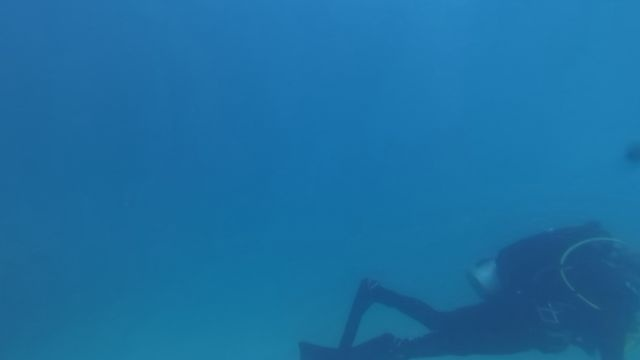Diver: (298, 215, 637, 358)
